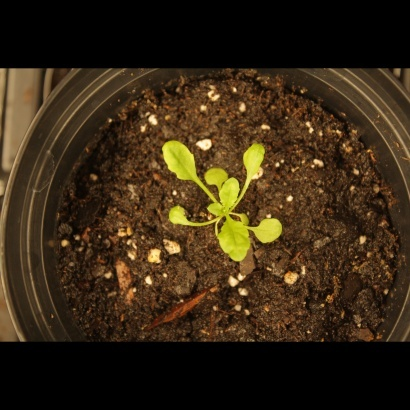leaf: (160, 137, 202, 185), (216, 217, 254, 266), (238, 132, 273, 183), (253, 214, 287, 249), (164, 201, 193, 232), (217, 175, 241, 212), (204, 162, 230, 188), (202, 200, 225, 223)
